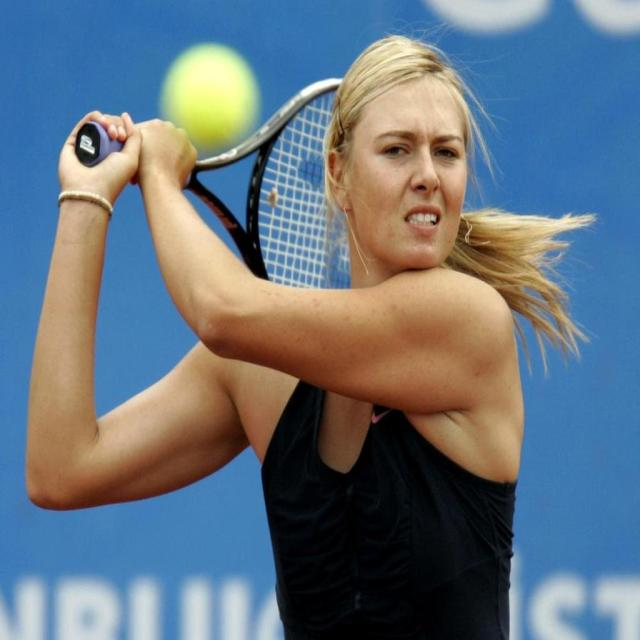Face: (337, 64, 470, 273)
